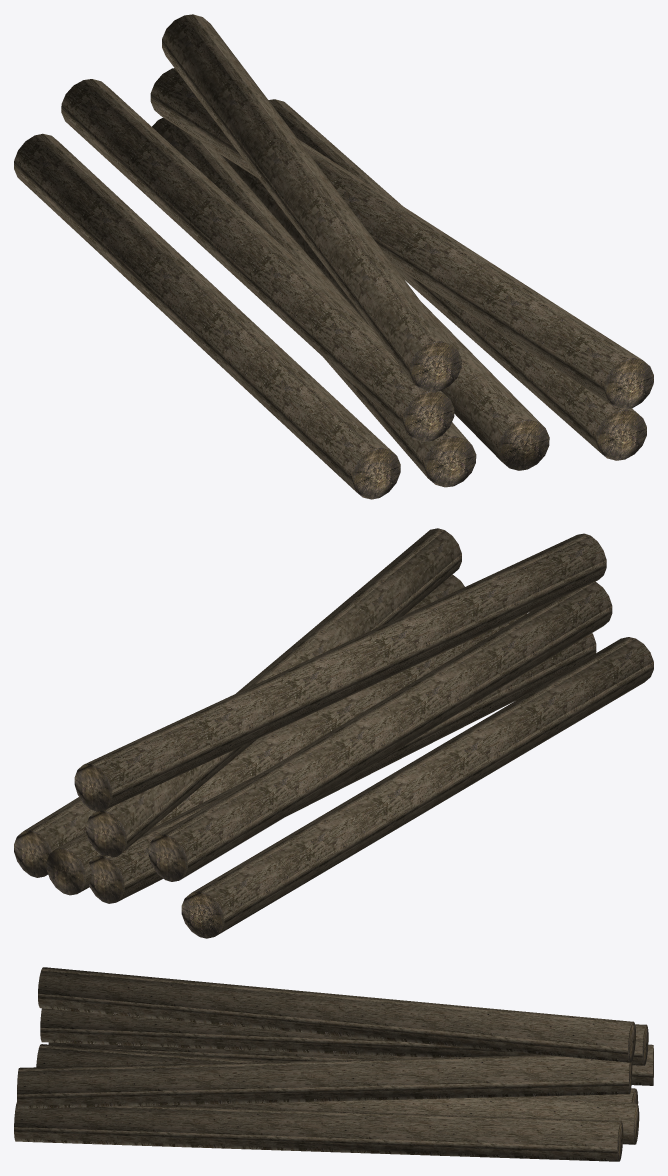
Rendered from Wood_1.FBX.
3 renders of one model, top to bottom at view 1: azimuth 30°, elevation 25°; view 2: azimuth 150°, elevation 25°; view 3: azimuth 270°, elevation 25°, orthographic. The views are drawn at different scales.
Parts seen in each view (by area): view 1: Wood_1; view 2: Wood_1; view 3: Wood_1.
Part boxes in pixels (x1=…): Wood_1: x1=14, y1=14, x2=653, y2=499; Wood_1: x1=14, y1=528, x2=653, y2=938; Wood_1: x1=14, y1=967, x2=653, y2=1161.
Bounding box in the file's own units: 28.78 × 12.5 × 65.92.
